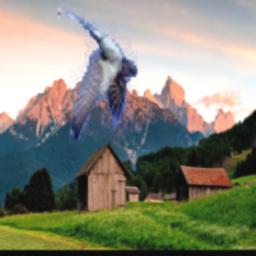Swallow: (58, 2, 137, 142)
